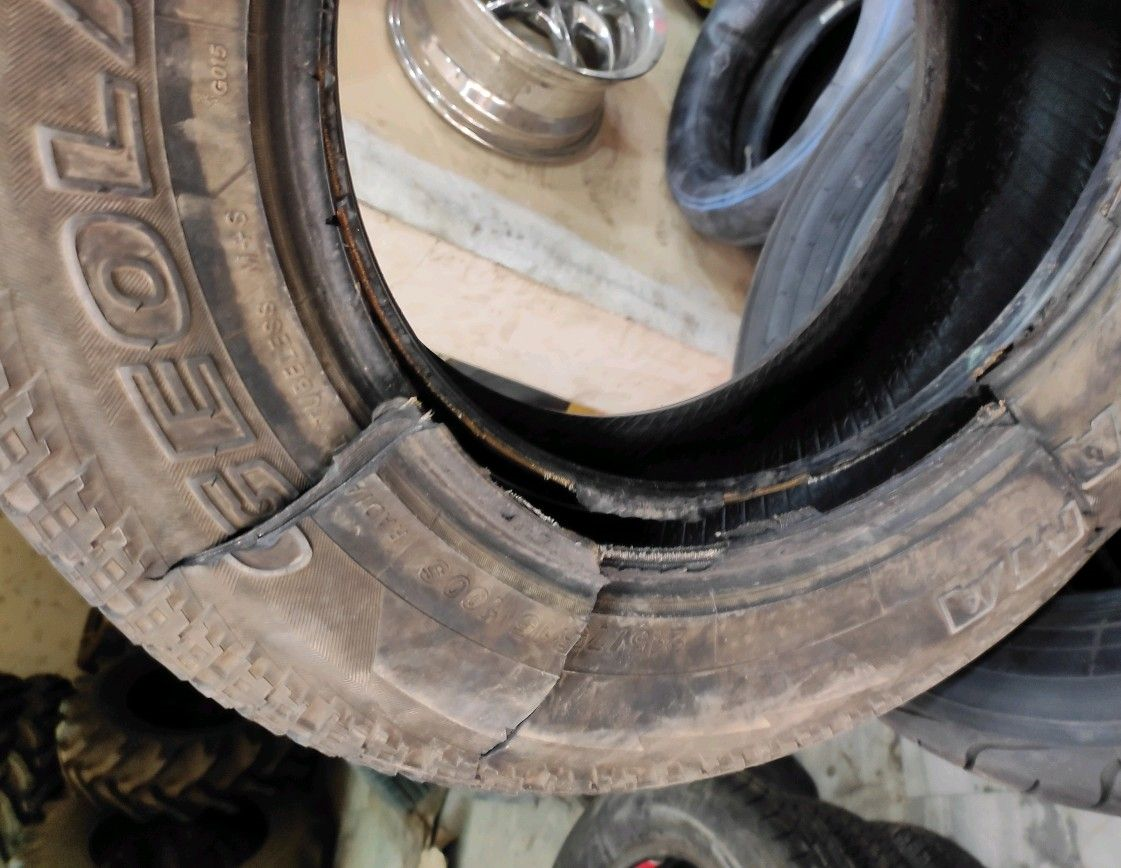bead_damage: (129, 7, 1120, 774)
